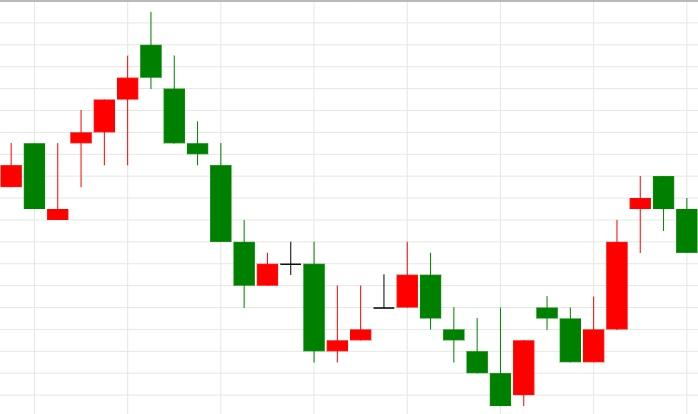inverse_hammer_rise: (421, 253, 511, 406)
